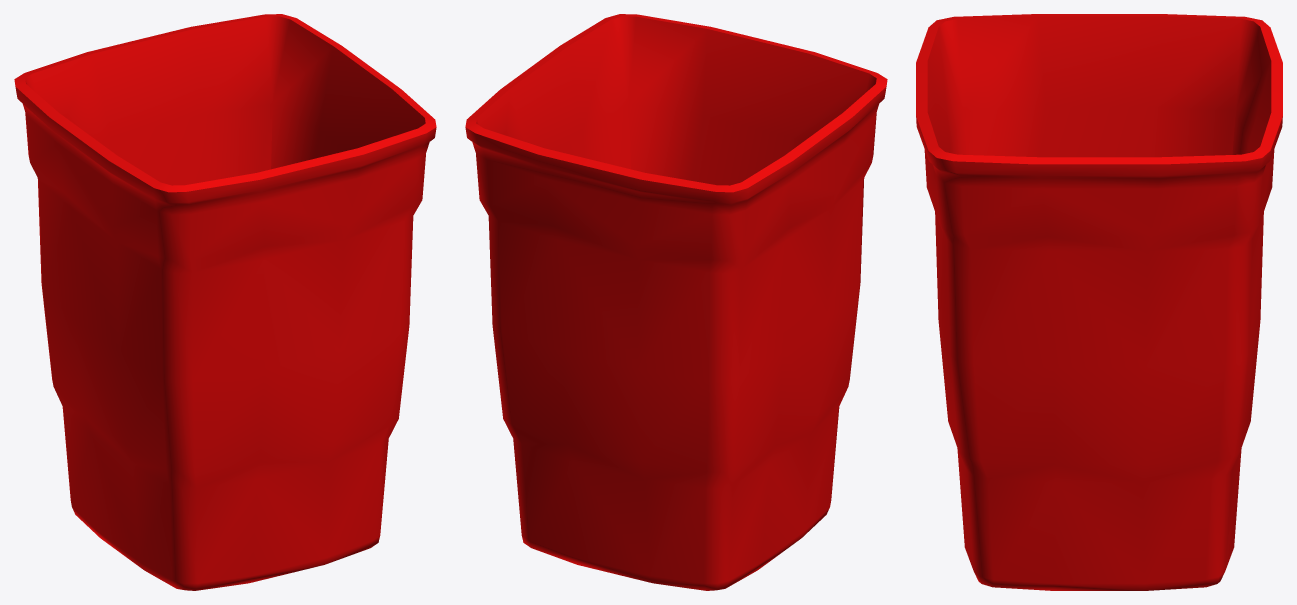
Rendered from solo_cup_rec_room.glb.
3 renders of one model, left to right at view 1: azimuth 30°, elevation 25°; view 2: azimuth 150°, elevation 25°; view 3: azimuth 270°, elevation 25°, orthographic. The views are drawn at different scales.
Parts seen in each view (by area): view 1: Object_2; view 2: Object_2; view 3: Object_2.
Part boxes in pixels (x1,y1,x2,y2): Object_2: (14, 14, 436, 590); Object_2: (465, 14, 887, 590); Object_2: (916, 14, 1282, 590).
Bounding box in the file's own units: 0.127 × 0.1787 × 0.1309.
